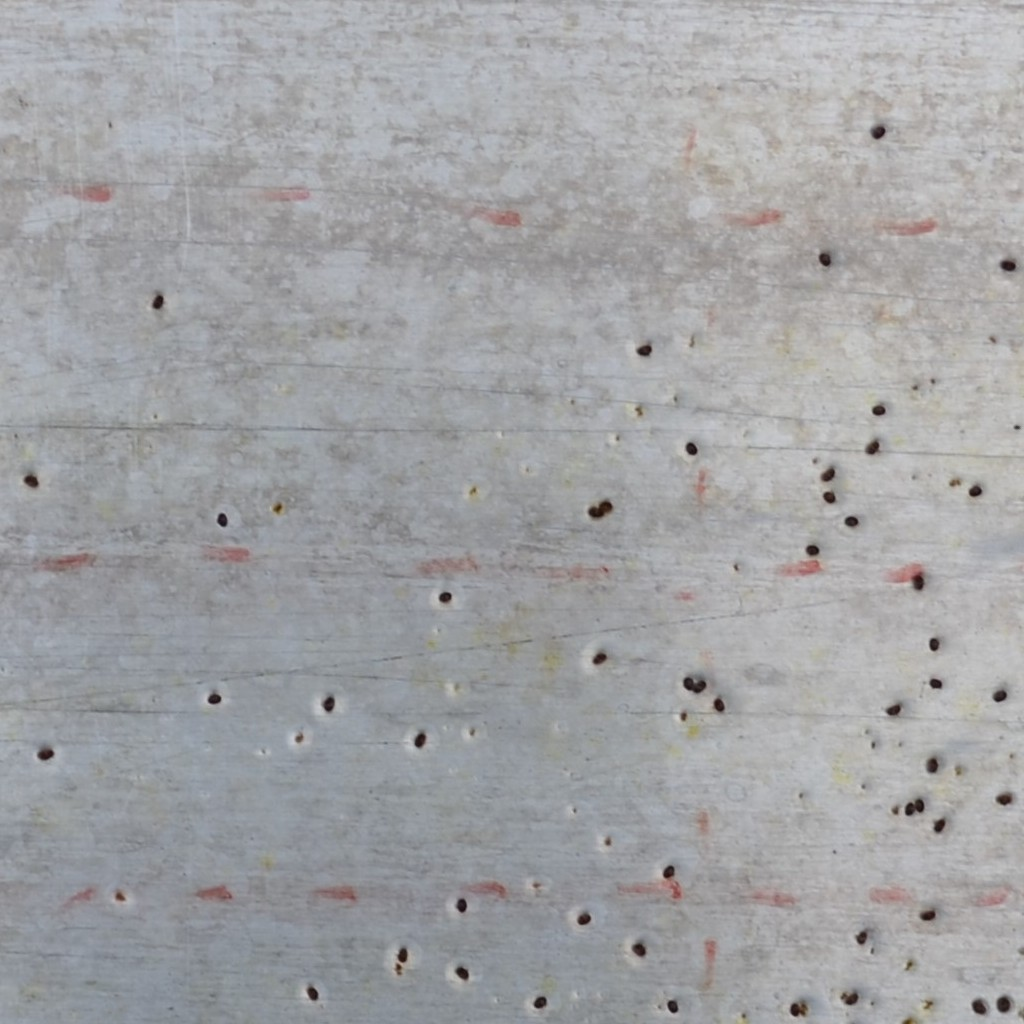varroa: (19, 468, 42, 495), (931, 809, 949, 841), (851, 921, 869, 949), (34, 742, 57, 763), (969, 993, 988, 1018), (319, 692, 338, 716), (993, 788, 1015, 808), (867, 122, 886, 145), (882, 698, 901, 721), (924, 752, 942, 776), (410, 727, 428, 751), (995, 991, 1012, 1016), (917, 904, 938, 923), (910, 571, 927, 594), (214, 506, 231, 529), (147, 290, 166, 310), (434, 588, 455, 606), (453, 963, 470, 985), (531, 992, 547, 1015), (863, 437, 881, 457), (804, 538, 822, 558), (817, 248, 832, 270), (927, 633, 942, 655), (999, 258, 1017, 276), (575, 909, 592, 928), (989, 687, 1009, 703), (586, 504, 606, 520), (691, 677, 707, 697), (590, 646, 606, 666), (842, 989, 859, 1007), (821, 488, 839, 505), (683, 439, 700, 457), (205, 690, 224, 706), (661, 861, 676, 881), (788, 998, 802, 1019), (665, 995, 679, 1016), (455, 895, 469, 916), (818, 465, 835, 482), (635, 342, 653, 358), (913, 794, 926, 816), (713, 695, 726, 717), (842, 513, 861, 528), (871, 400, 887, 417), (966, 481, 983, 497), (631, 940, 645, 959), (395, 944, 408, 964), (928, 674, 943, 691), (902, 800, 916, 818), (306, 984, 320, 1001), (598, 499, 613, 514), (681, 675, 693, 692)
